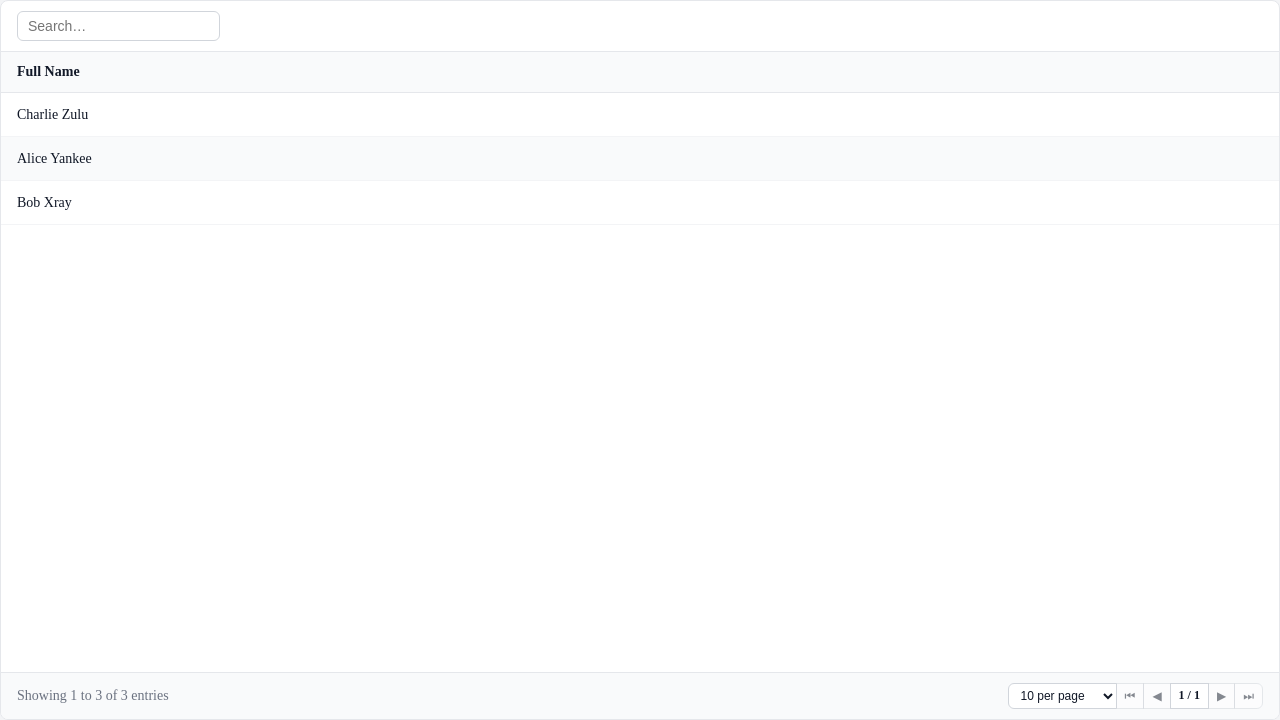
DataTable Virtualized Component › quick filter (issue #317) › matches an accessorFn column by its computed value, not a direct property read
The image size is (1280, 720).
In the search field: (118, 26) 17,11 -> 220,41, type "yankee"
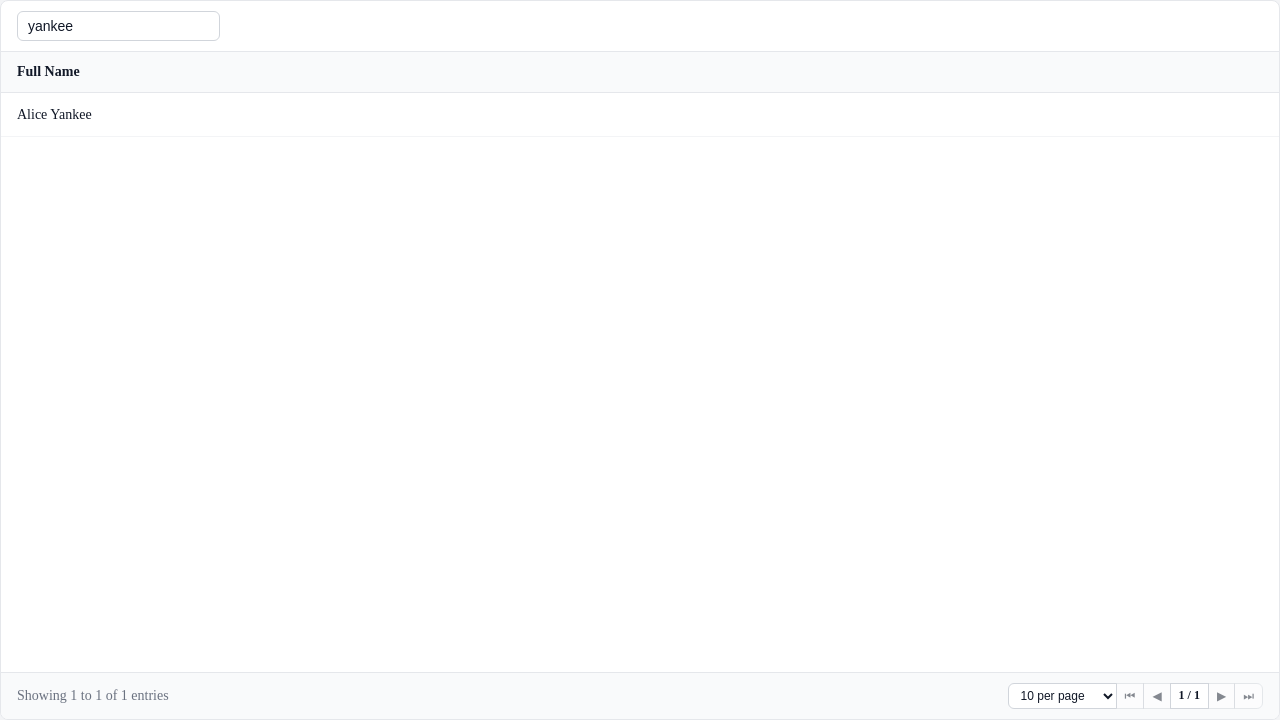
Now the text "Alice Yankee" is shown, box 1,92 -> 1279,136
Now the text "Charlie Zulu" is gone
